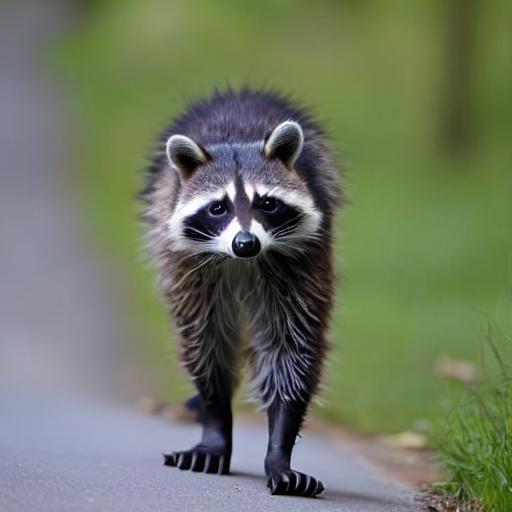raccoon: (132, 83, 348, 393)
